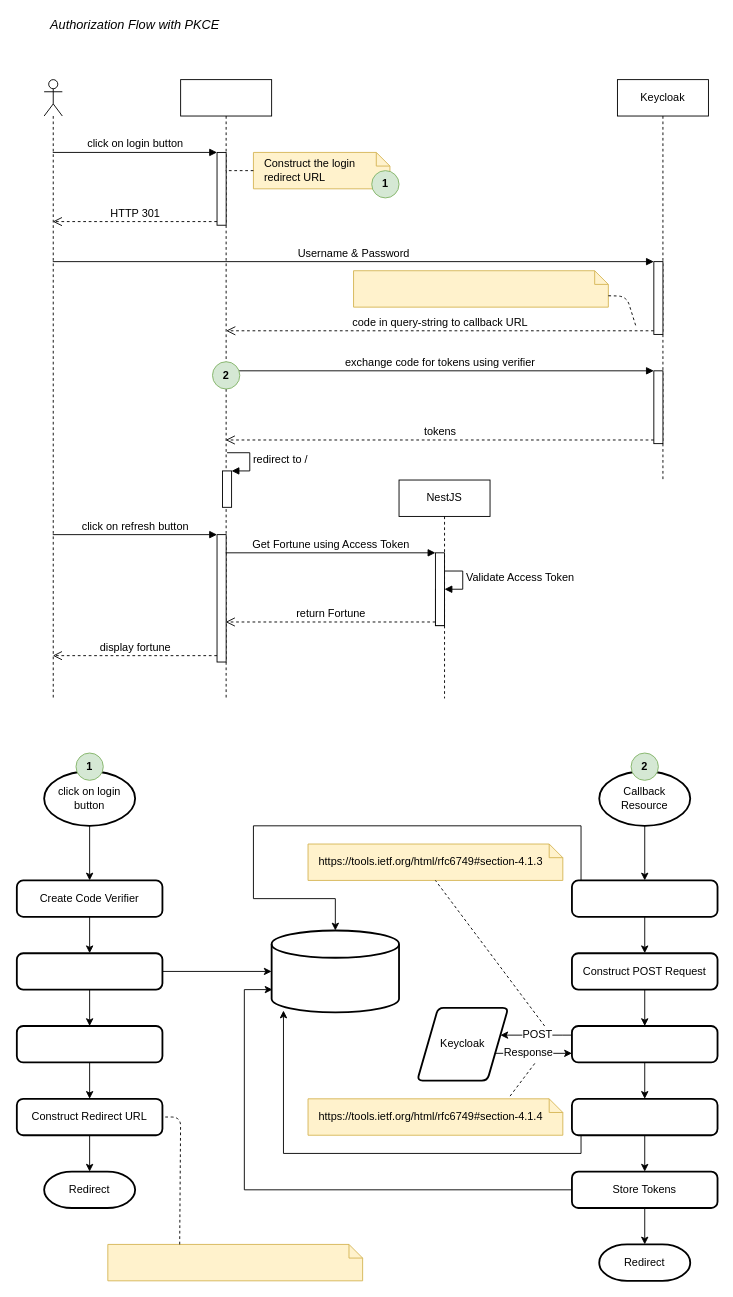
Some shapes in this 733 by 1297 pixel diagram are drawn without their labels. The box of each missing label's shape, as (x1, y1, x2, y2) in pixels:
Browser sesionStorage: (270, 929, 399, 1013)
Create Challange: (15, 1025, 163, 1063)
Delete Verifier: (571, 1097, 718, 1136)
Get Verifier: (571, 879, 718, 917)
https://tools.ietf.org/html/rfc6749#section-4.1.1: (107, 1244, 363, 1281)
https://tools.ietf.org/html/rfc6749#section-4.1.2: (353, 270, 608, 307)
React Front End: (180, 79, 272, 698)
Request Tokens from Keycloak: (571, 1025, 718, 1063)
Store Code Verifier: (15, 952, 163, 990)
